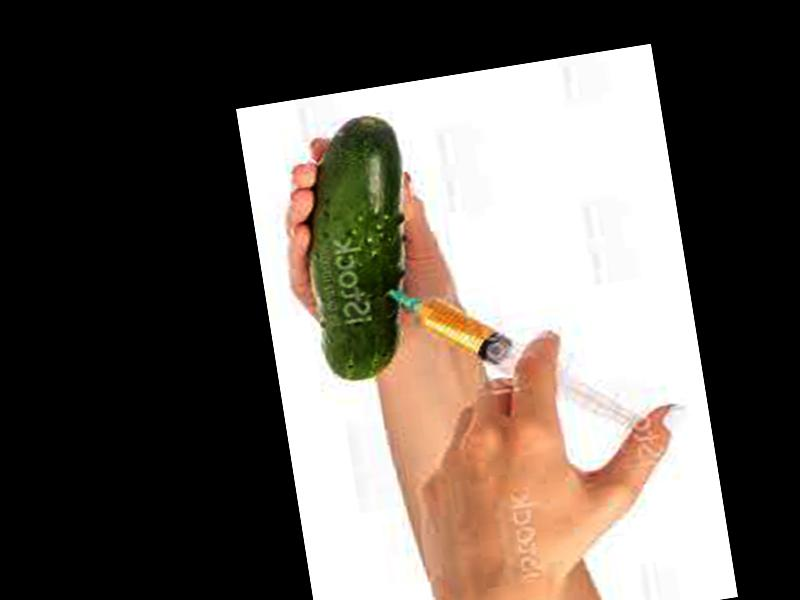Cucumber: (293, 110, 432, 383)
